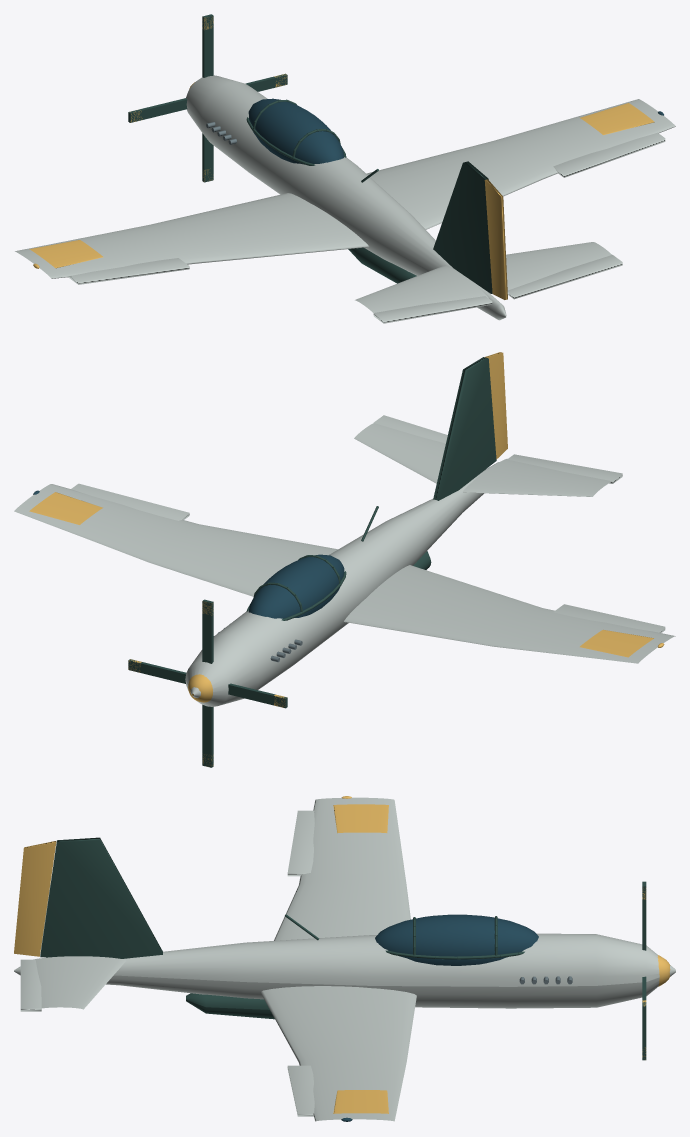
Rendered from player-mustang-hero-v1.glb.
The picture shows the model from 3 angles, top to bottom: view 1: azimuth 30°, elevation 25°; view 2: azimuth 150°, elevation 25°; view 3: azimuth 270°, elevation 25°; orthographic projection. The views are drawn at different scales.
Visible parts, largest first — view 1: hull, trim, glass, accent, propeller, rudder, aileron-right, elevator-right, aileron-left, elevator-left; view 2: hull, trim, glass, accent, propeller, rudder, aileron-right, aileron-left, elevator-left, elevator-right; view 3: hull, trim, glass, rudder, accent, aileron-left, aileron-right, elevator-right, propeller.
Part boxes in pixels (left/top/right/bottom): hull: left=15, top=75, right=675, bottom=320; trim: left=246, top=99, right=492, bottom=293; glass: left=248, top=98, right=663, bottom=164; accent: left=29, top=82, right=654, bottom=268; propeller: left=128, top=14, right=287, bottom=182; rudder: left=484, top=179, right=507, bottom=299; aileron-right: left=553, top=132, right=665, bottom=177; elevator-right: left=507, top=255, right=622, bottom=299; aileron-left: left=68, top=258, right=189, bottom=284; elevator-left: left=373, top=296, right=492, bottom=323; hull: left=14, top=423, right=675, bottom=706; trim: left=246, top=357, right=496, bottom=620; glass: left=33, top=490, right=344, bottom=618; accent: left=29, top=492, right=664, bottom=702; propeller: left=128, top=599, right=287, bottom=767; rudder: left=485, top=352, right=507, bottom=459; aileron-right: left=71, top=483, right=189, bottom=520; aileron-left: left=553, top=604, right=665, bottom=632; elevator-left: left=507, top=454, right=622, bottom=483; elevator-right: left=373, top=415, right=447, bottom=443; hull: left=14, top=797, right=675, bottom=1121; trim: left=40, top=837, right=524, bottom=1019; glass: left=341, top=914, right=538, bottom=1121; rudder: left=14, top=841, right=56, bottom=956; accent: left=333, top=796, right=670, bottom=1113; aileron-left: left=287, top=810, right=314, bottom=876; aileron-right: left=287, top=1065, right=314, bottom=1116; elevator-right: left=20, top=959, right=41, bottom=1011; propeller: left=642, top=881, right=646, bottom=1060.
Bounding box in the file's own units: 11.58 × 3.65 × 10.
